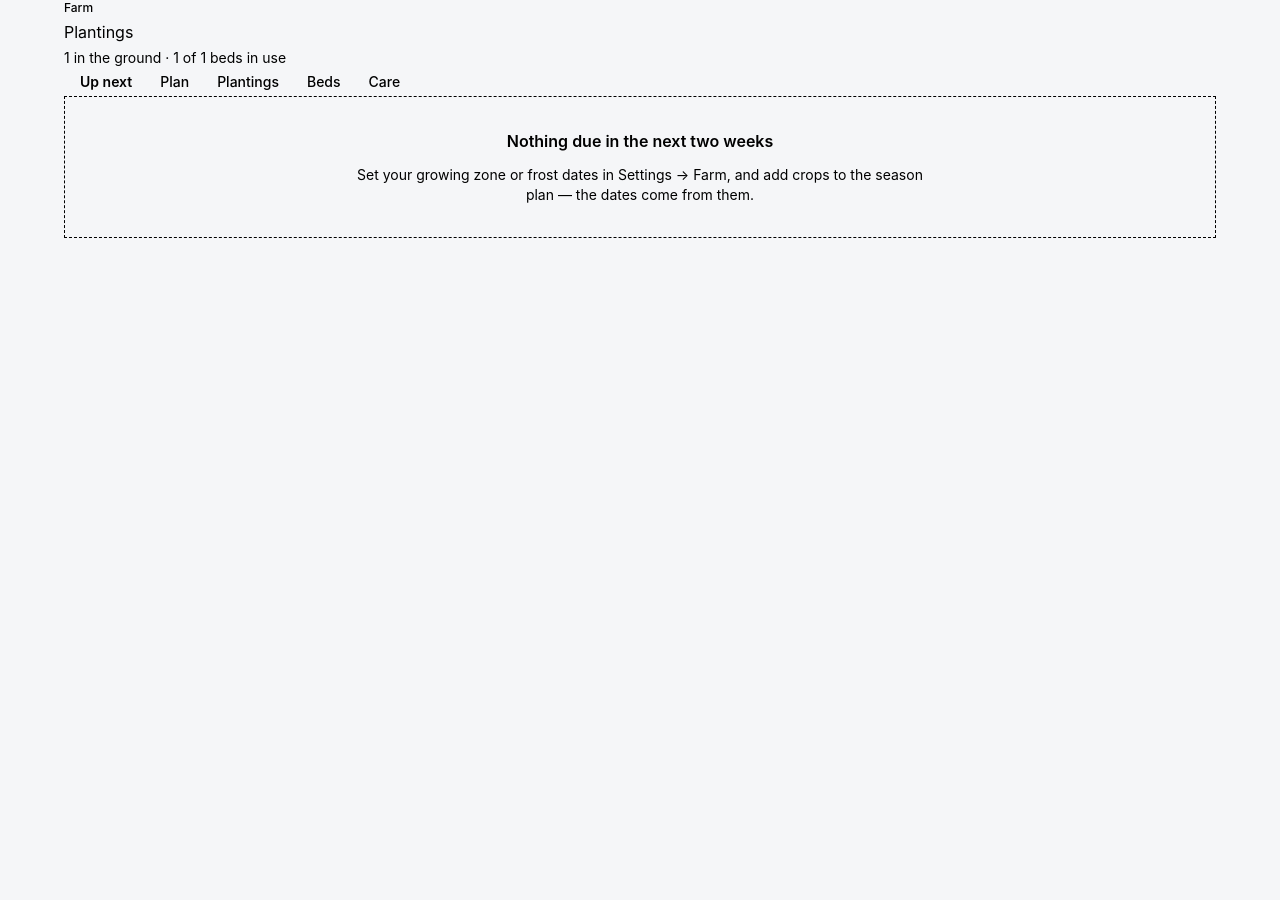
Test: plantings › opens the editor from the row, with delete behind a confirmation
Step 1. Click the tab "Plantings" → [248, 82], box [205,72,291,92]
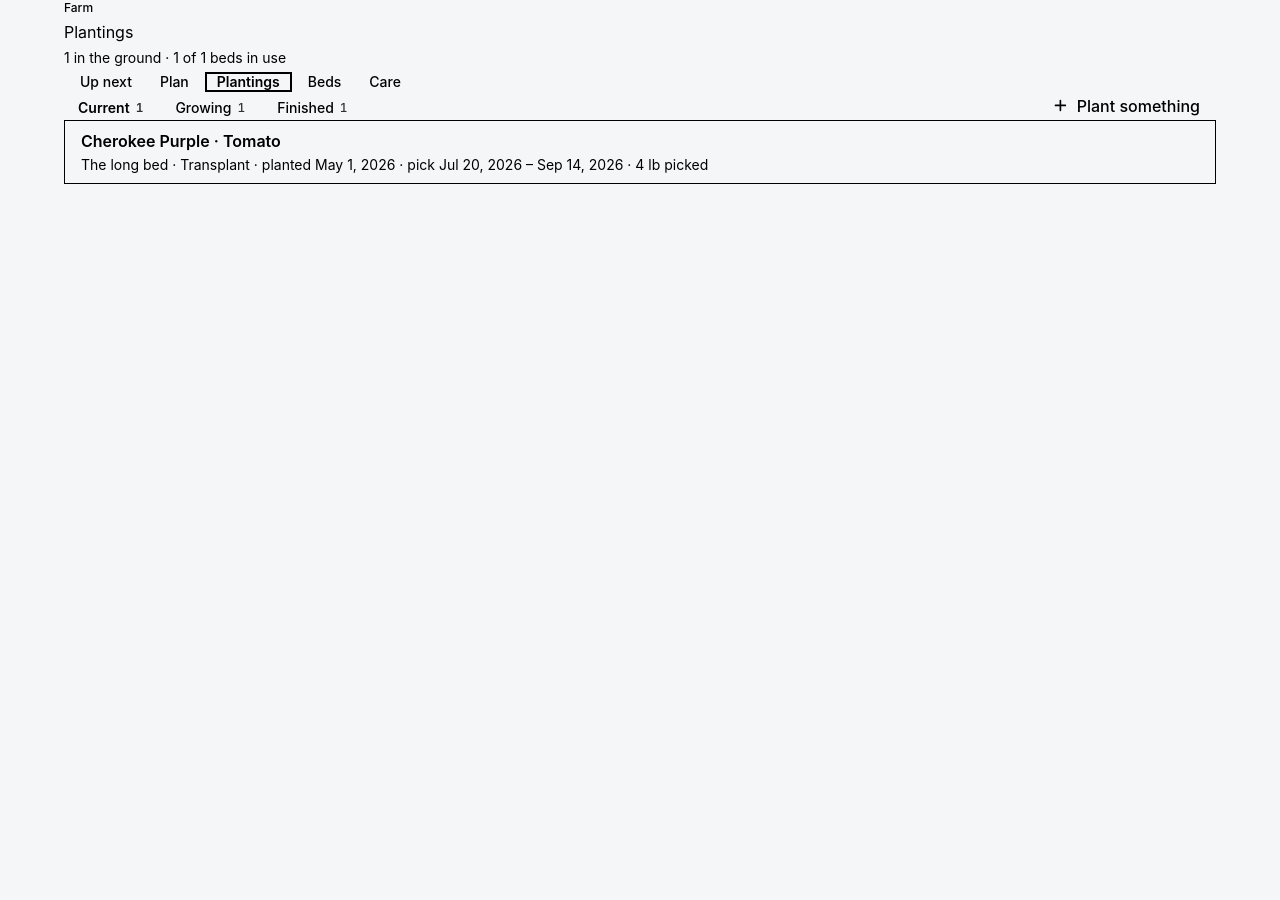
Step 2. Click the button with aria-label "Edit Cherokee Purple · Tomato in The long bed" → [181, 141], box [65,121,1215,183]
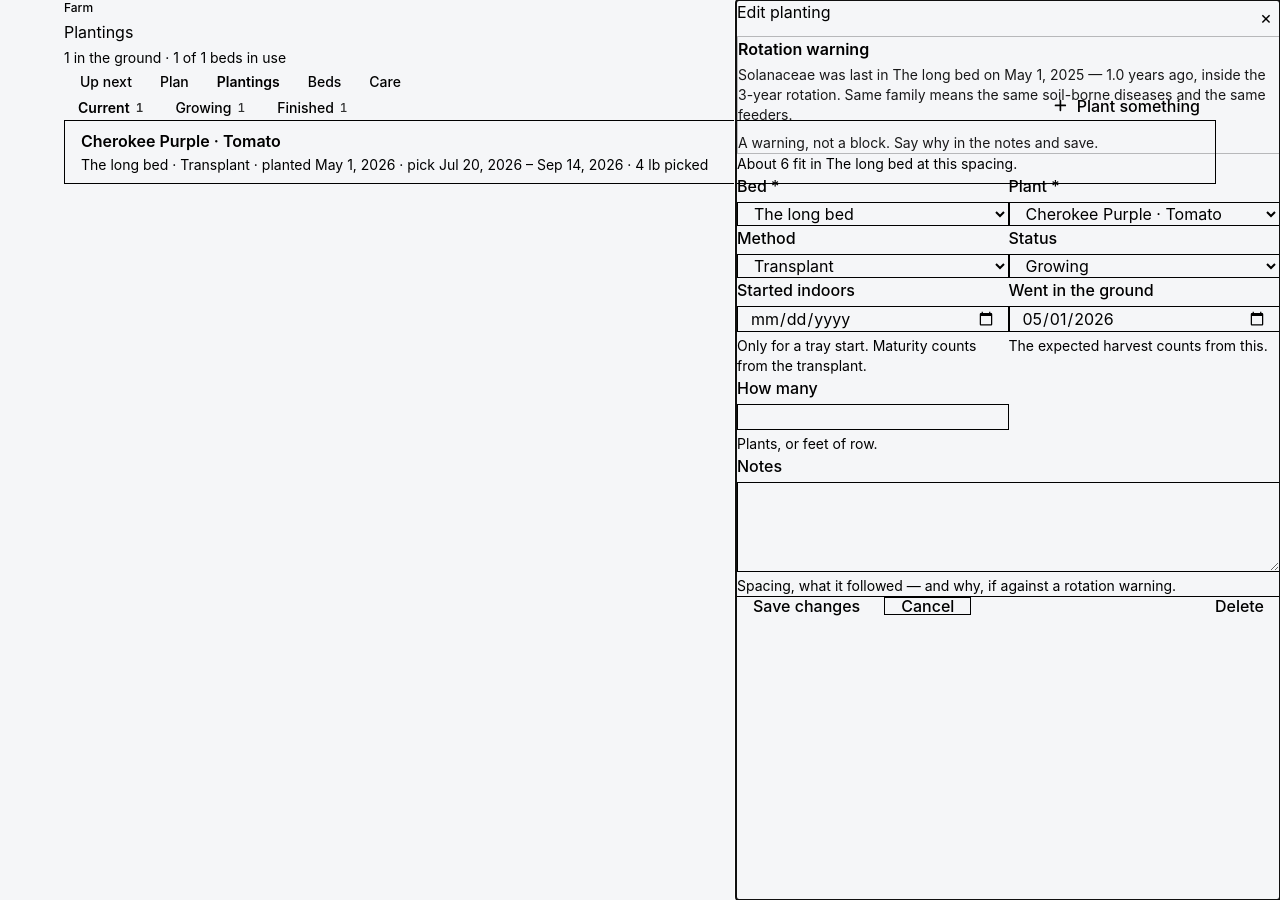
Step 3. Click the button "Delete" → [1239, 606], box [1199,597,1279,615]
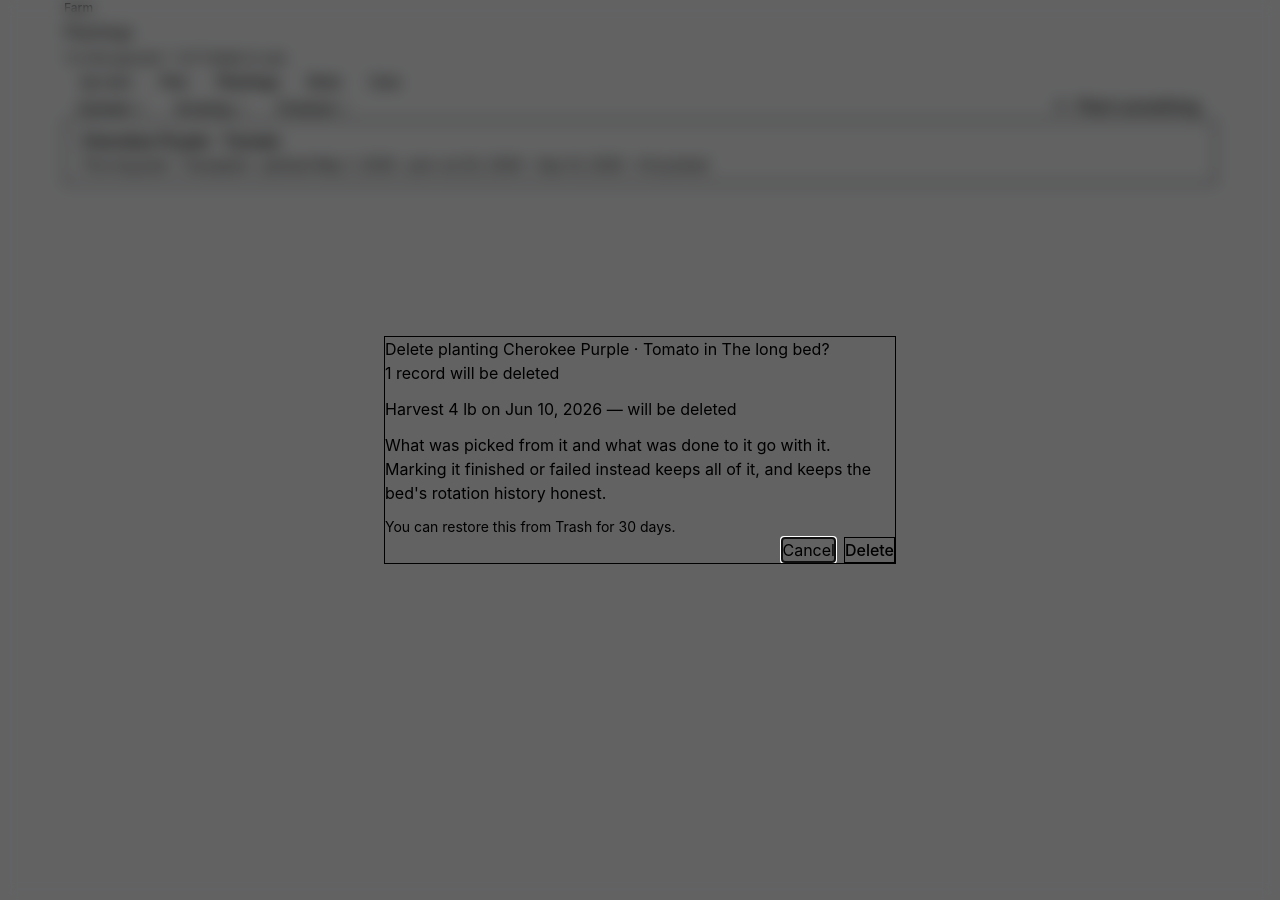
Now the list item "Harvest 4 lb on Jun 10, 2026 — will be deleted" is shown, box [385,399,737,419]
